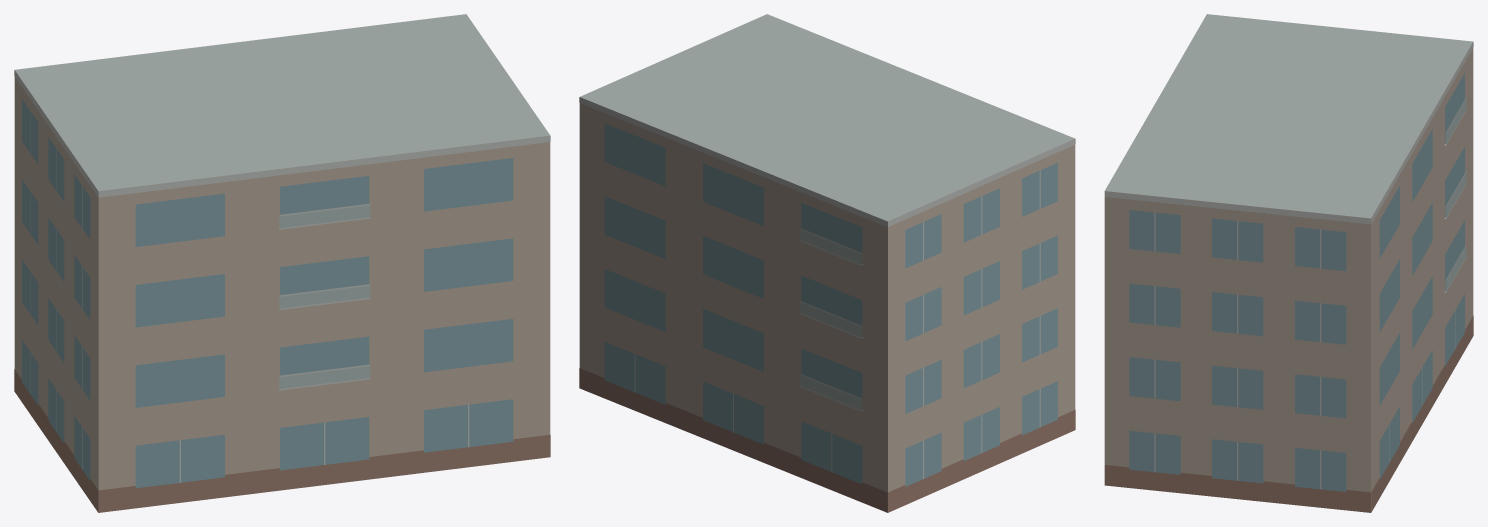
The model's file is residential-e75664b3-cf85-447c-a7bb-446f3111920d.glb.
The picture shows the model from 3 angles, left to right: view 1: azimuth 30°, elevation 25°; view 2: azimuth 150°, elevation 25°; view 3: azimuth 270°, elevation 25°; orthographic projection. The views are drawn at different scales.
Visible parts, largest first — view 1: residential-e75664b3-cf85-447c-a7bb-446f3111920d.tmp; view 2: residential-e75664b3-cf85-447c-a7bb-446f3111920d.tmp; view 3: residential-e75664b3-cf85-447c-a7bb-446f3111920d.tmp.
Part boxes in pixels (x1,y1,x2,y2): residential-e75664b3-cf85-447c-a7bb-446f3111920d.tmp: (14,14,550,512); residential-e75664b3-cf85-447c-a7bb-446f3111920d.tmp: (579,14,1075,512); residential-e75664b3-cf85-447c-a7bb-446f3111920d.tmp: (1104,14,1473,512).
Bounding box in the file's own units: 18.18 × 12.2 × 13.86.
